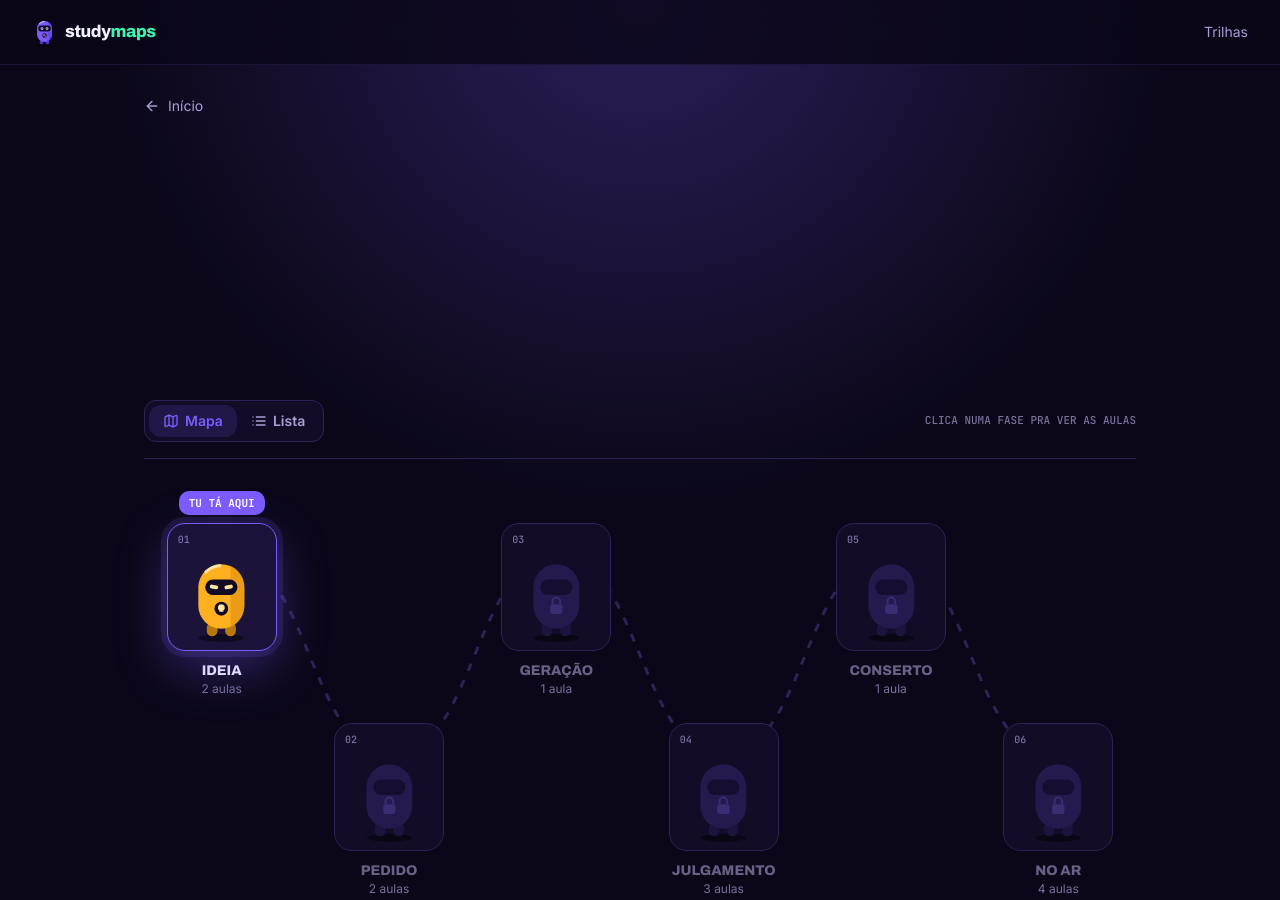
it: smoke — páginas renderizam sem quebrar › a lista da trilha mostra a dor que cada aula resolve
Click the tab "Lista": (278, 420) [237,404,319,436]
(page scrolled)
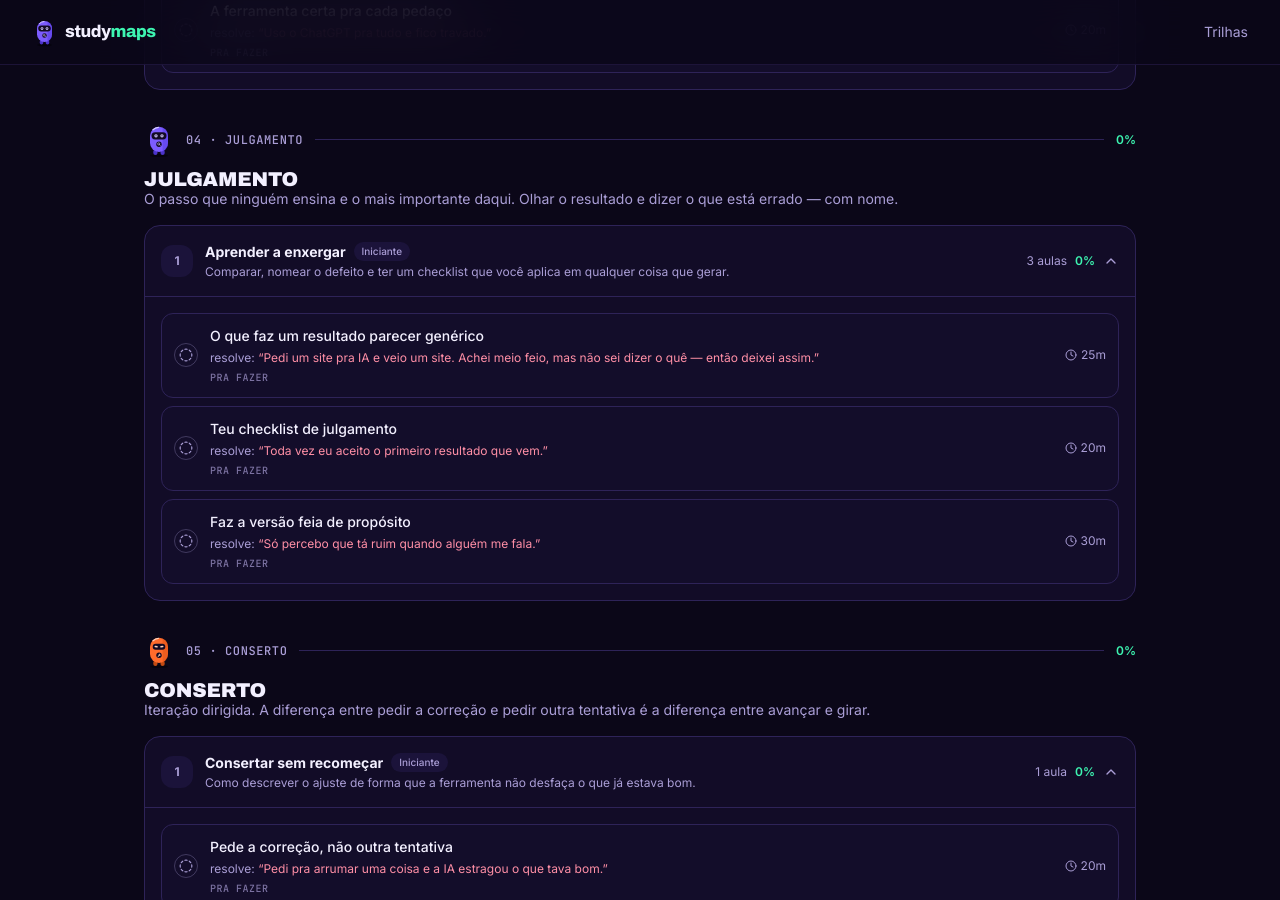
Now the text "“Toda vez eu aceito o primeiro resultado que vem.”" is shown, box [258,442,548,458]
